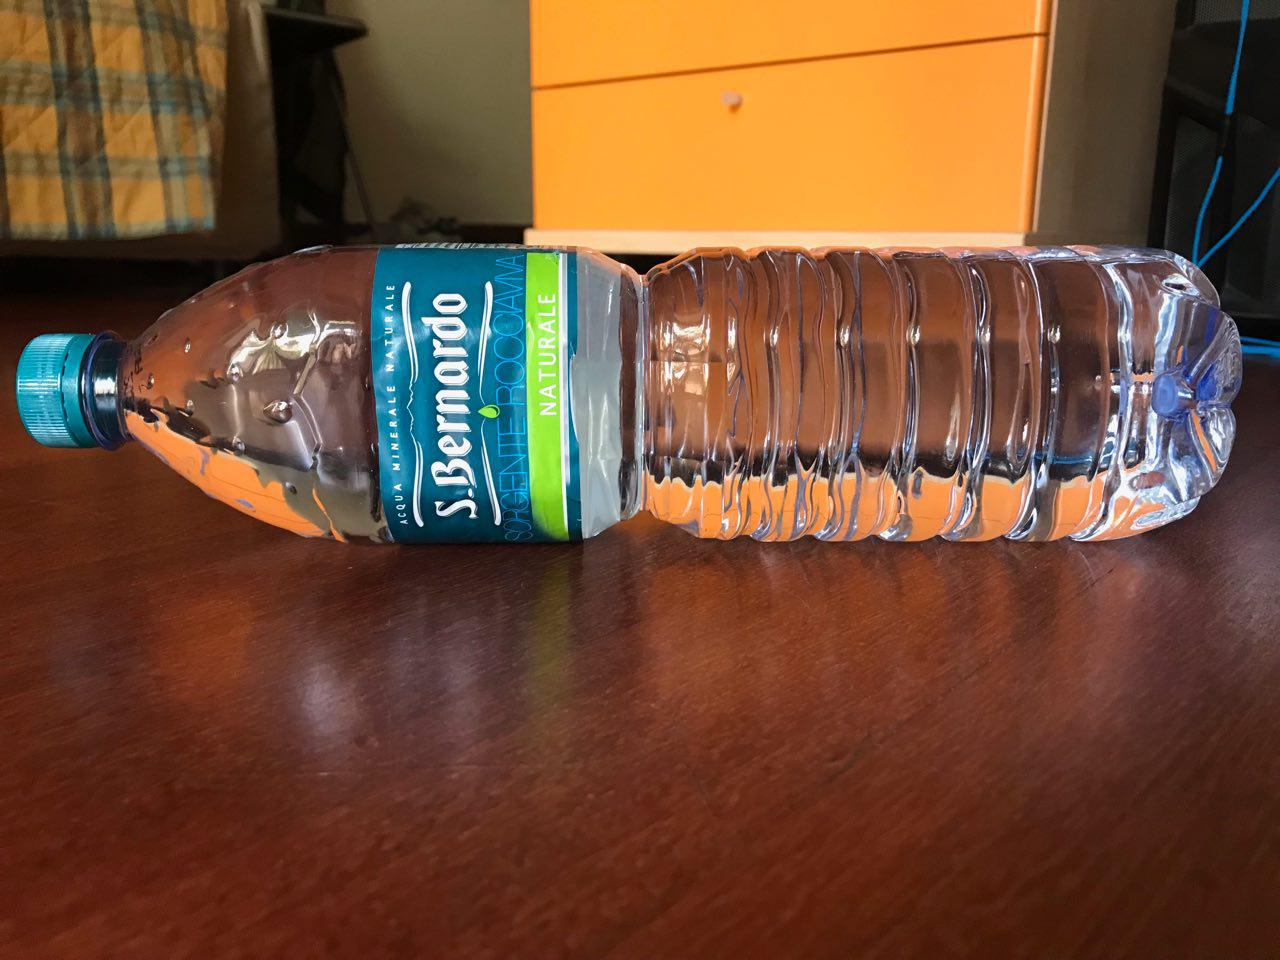san_bernardo: (11, 240, 1247, 549)
